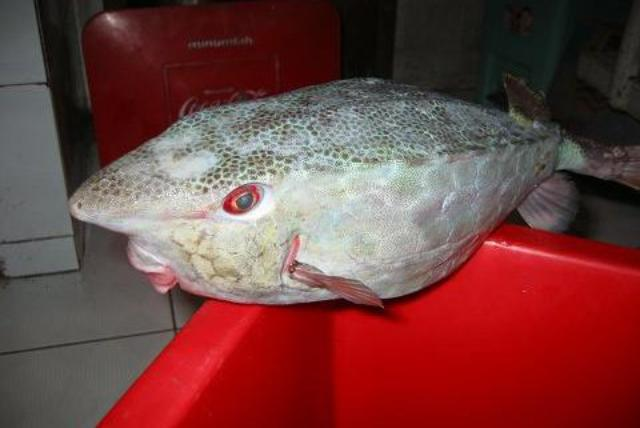Mulut: (104, 232, 194, 316)
Sirip Dada: (278, 241, 396, 337)
Sirip Ekor: (574, 106, 640, 200)
